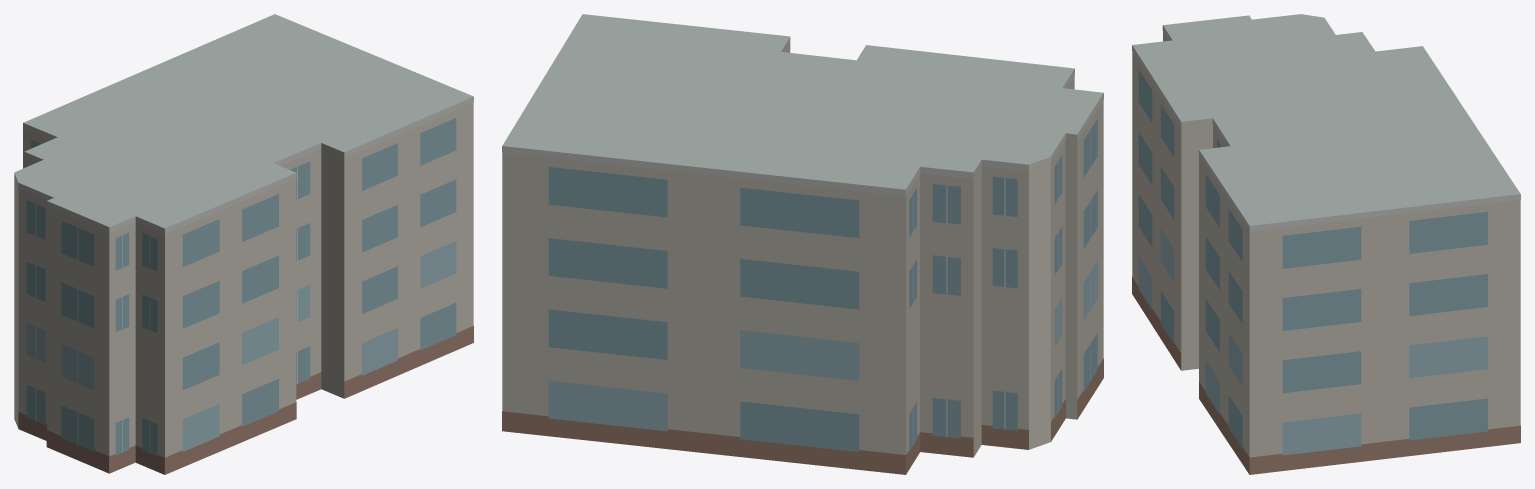
Rendered from survey-upis-33008926.glb.
3 renders of one model, left to right at view 1: azimuth 30°, elevation 25°; view 2: azimuth 150°, elevation 25°; view 3: azimuth 270°, elevation 25°, orthographic. The views are drawn at different scales.
Visible parts, largest first — view 1: survey-upis-33008926.tmp; view 2: survey-upis-33008926.tmp; view 3: survey-upis-33008926.tmp.
Part boxes in pixels (bbox=[...]): survey-upis-33008926.tmp: bbox=[14, 14, 473, 474]; survey-upis-33008926.tmp: bbox=[502, 14, 1103, 474]; survey-upis-33008926.tmp: bbox=[1132, 14, 1520, 474].
Size of the model in its own units: 19 by 10.4 by 14.73.
